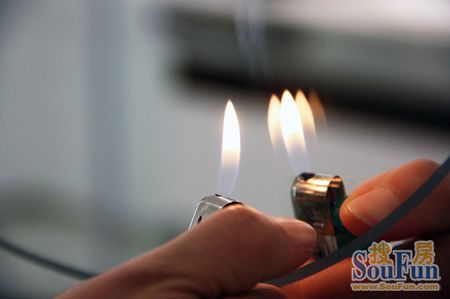fire: (260, 81, 320, 185), (206, 94, 245, 210)
